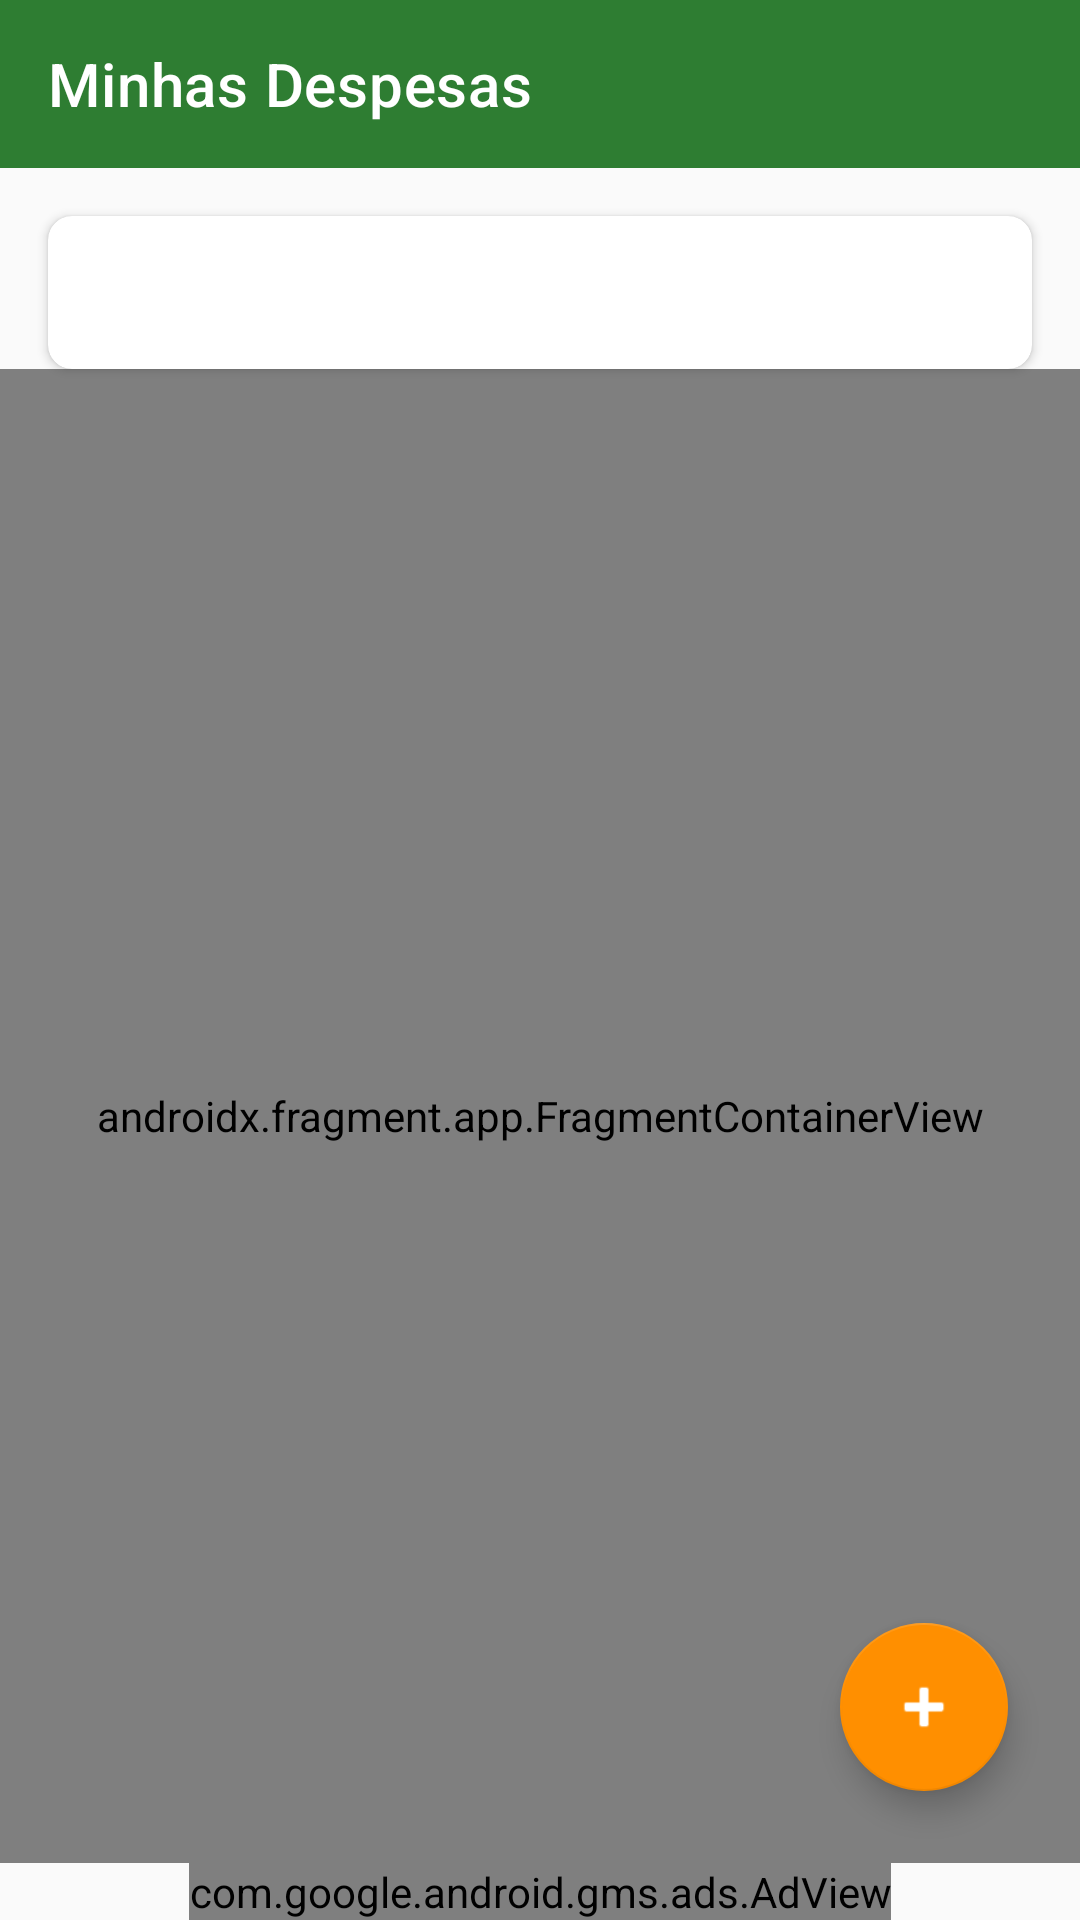

Where to tap for icons on this 1080×1920 app screen, as (x=x, y=y):
Adicionar Despesa: (x=924, y=1707)
